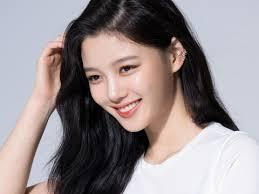Awake: (56, 4, 215, 150)
